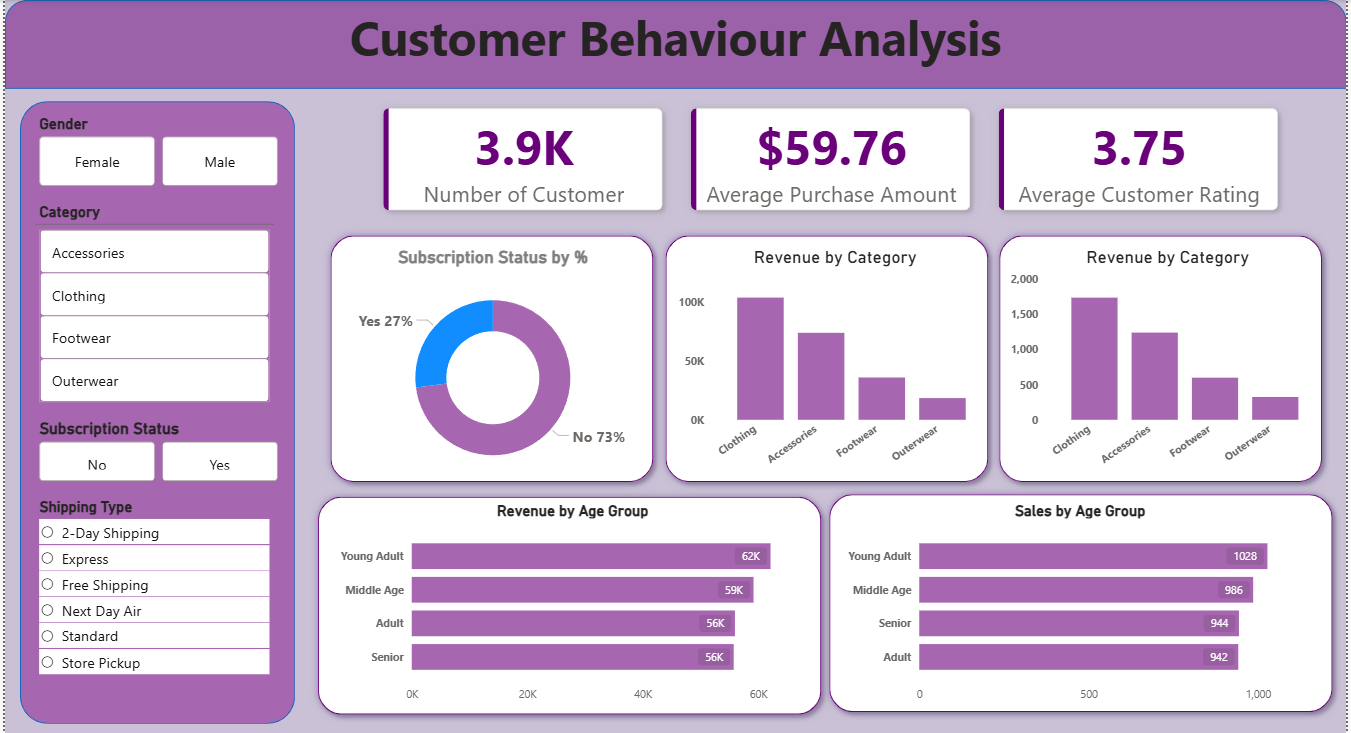

What the dashboard file says about the page in this screenshot:
{"tool":"powerbi","page":{"name":"Page 1","canvas":[1500,820],"ordinal":0},"visuals":[{"type":"cardVisual","fields":{"Data":["sales_db customer.Number of Customer","sales_db customer.Average Purchase Amount","sales_db customer.Average Customer Rating"]},"box":[394.2,92,1058.8,172.3],"z":0},{"type":"shape","box":[0,0,1499.9,99.3],"z":1000},{"type":"textbox","box":[0,0,1499.4,99.2],"z":2000},{"type":"shape","box":[355.1,254.4,378.7,293.5],"z":3000},{"type":"shape","box":[728.9,254.4,378.7,293.5],"z":4000},{"type":"shape","box":[1102.7,254.4,378.7,293.5],"z":5000},{"type":"donutChart","title":"Subscription Status by %","fields":{"Y":["CountNonNull(sales_db customer.customer_id)"],"Category":["sales_db customer.subscription_status"]},"box":[376.2,277,339.3,270],"z":6000},{"type":"clusteredColumnChart","title":"Revenue by Category","fields":{"Y":["Sum(sales_db customer.purchase_amount)"],"Category":["sales_db customer.category"]},"box":[747.3,277,361,262.8],"z":7000},{"type":"clusteredColumnChart","title":"Revenue by Category","fields":{"Category":["sales_db customer.category"],"Y":["CountNonNull(sales_db customer.customer_id)"]},"box":[1119.9,277,361,262.8],"z":8000},{"type":"shape","box":[17.3,112.6,307.6,696],"z":9000},{"type":"advancedSlicerVisual","title":"Gender","fields":{"Values":["sales_db customer.gender"]},"box":[33.2,128.5,277.2,85.2],"z":10000},{"type":"advancedSlicerVisual","title":"Category","fields":{"Values":["sales_db customer.category"]},"box":[33.2,226.2,267.1,229.6],"z":11000},{"type":"advancedSlicerVisual","title":"Subscription Status","fields":{"Values":["sales_db customer.subscription_status"]},"box":[33.2,468.2,277.2,75.1],"z":12000},{"type":"listSlicer","title":"Shipping Type","fields":{"Values":["sales_db customer.shipping_type"]},"box":[33.2,555.8,267.1,264.2],"z":13000},{"type":"shape","box":[340.3,545.8,580.5,261.4],"z":14000},{"type":"clusteredBarChart","title":"Revenue by Age Group","fields":{"Category":["sales_db customer.age_group"],"Y":["Sum(sales_db customer.purchase_amount)"]},"box":[369.2,560.3,531.4,233.9],"z":15000},{"type":"shape","box":[912.1,542.9,580.5,261.4],"z":15001},{"type":"clusteredBarChart","title":"Sales by Age Group","fields":{"Category":["sales_db customer.age_group"],"Y":["CountNonNull(sales_db customer.purchase_amount)"]},"box":[936.7,560.3,531.4,233.9],"z":15002}]}

Visuals, with their boxes in screenshot pixels (x1, y1, x2, y2), scaled from the page's 1500x820 canvas onto the 1351x733 screenshot:
cardVisual - sales_db customer.Number of Customer x sales_db customer.Average Purchase Amount: detection(355, 82, 1309, 236)
shape: detection(0, 0, 1350, 89)
textbox: detection(0, 0, 1350, 89)
shape: detection(320, 227, 661, 490)
shape: detection(656, 227, 998, 490)
shape: detection(993, 227, 1334, 490)
"Subscription Status by %" donutChart: detection(339, 248, 644, 489)
"Revenue by Category" clusteredColumnChart: detection(673, 248, 998, 483)
"Revenue by Category" clusteredColumnChart: detection(1009, 248, 1334, 483)
shape: detection(16, 101, 293, 723)
"Gender" advancedSlicerVisual: detection(30, 115, 280, 191)
"Category" advancedSlicerVisual: detection(30, 202, 270, 407)
"Subscription Status" advancedSlicerVisual: detection(30, 419, 280, 486)
"Shipping Type" listSlicer: detection(30, 497, 270, 732)
shape: detection(306, 488, 829, 722)
"Revenue by Age Group" clusteredBarChart: detection(333, 501, 811, 710)
shape: detection(821, 485, 1344, 719)
"Sales by Age Group" clusteredBarChart: detection(844, 501, 1322, 710)
